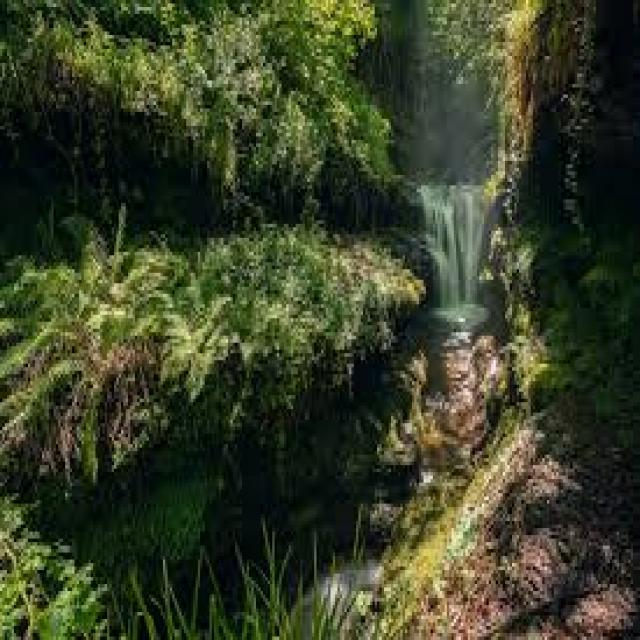Forest: (1, 3, 640, 639)
